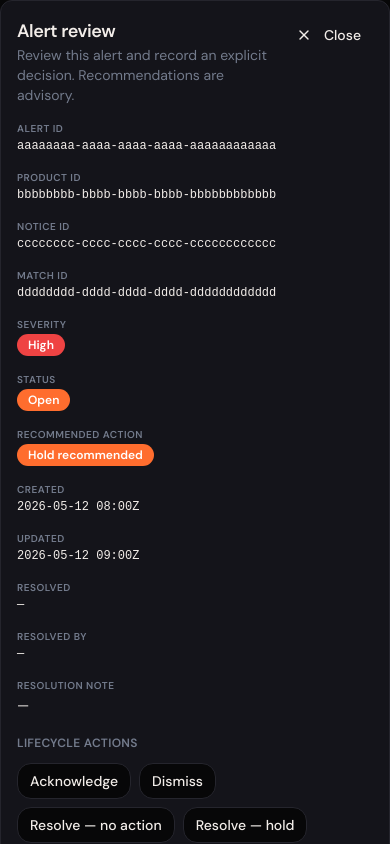
Test: RegulatoryAlertDetailPanel — mutation feedback › clears/closes the dialog once the mutation succeeds
Click the button with test id "regulatory-action-acknowledge" at (74, 781), box [17,763,131,799]
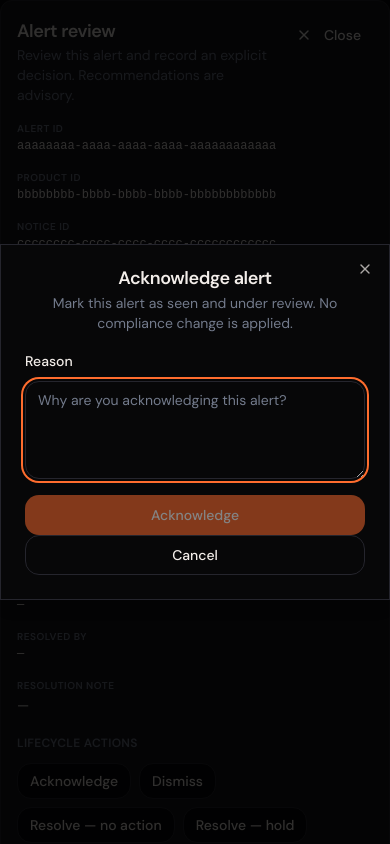
Now the dialog with test id "regulatory-resolution-dialog" is shown, box [0,244,389,600]
